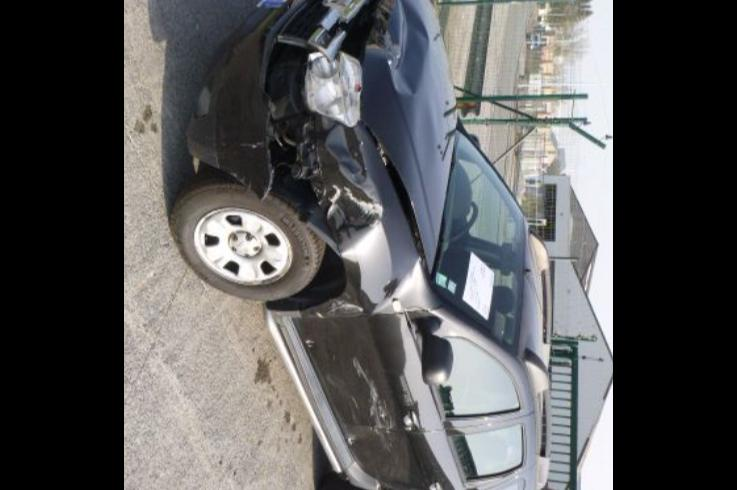Broken part: (188, 0, 322, 224), (356, 0, 456, 272), (278, 0, 382, 62)
Cracked: (308, 54, 358, 126)
Dent: (266, 112, 388, 242), (318, 348, 398, 428), (368, 0, 430, 98), (300, 300, 370, 318), (342, 424, 370, 452)
Scratch: (346, 348, 393, 428), (370, 428, 396, 452), (322, 304, 362, 314), (300, 336, 316, 348), (346, 432, 358, 444)
